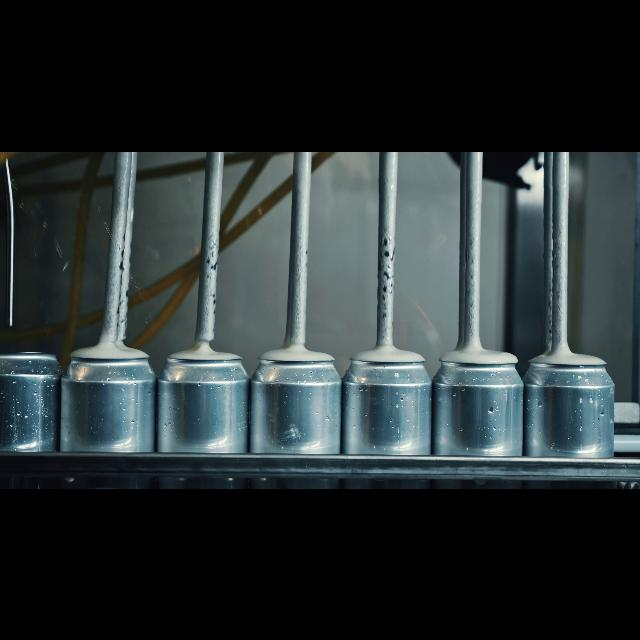empty: (1, 338, 62, 488)
full: (157, 340, 253, 488), (433, 342, 525, 488), (69, 330, 153, 488), (532, 339, 614, 488), (258, 334, 336, 488), (348, 336, 424, 488)
